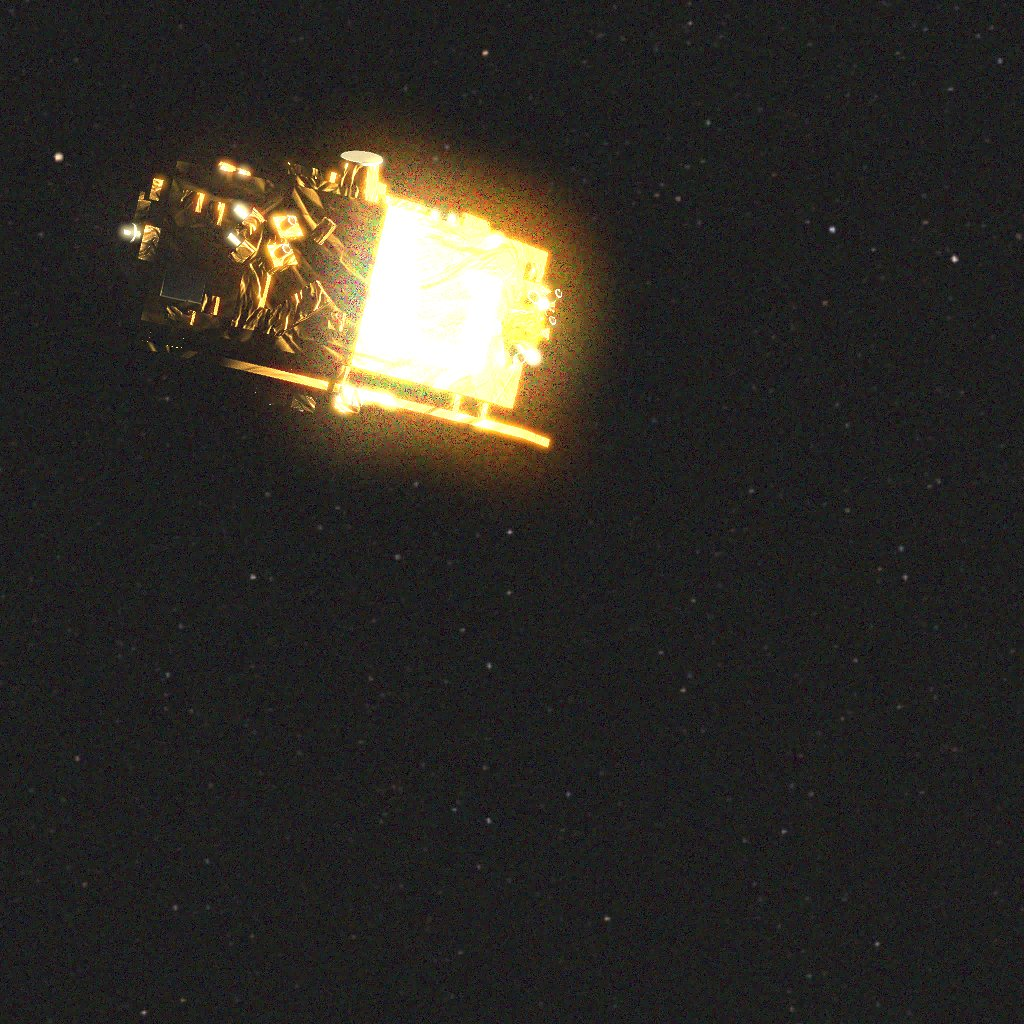lisa_pathfinder: (68, 151, 562, 447)
